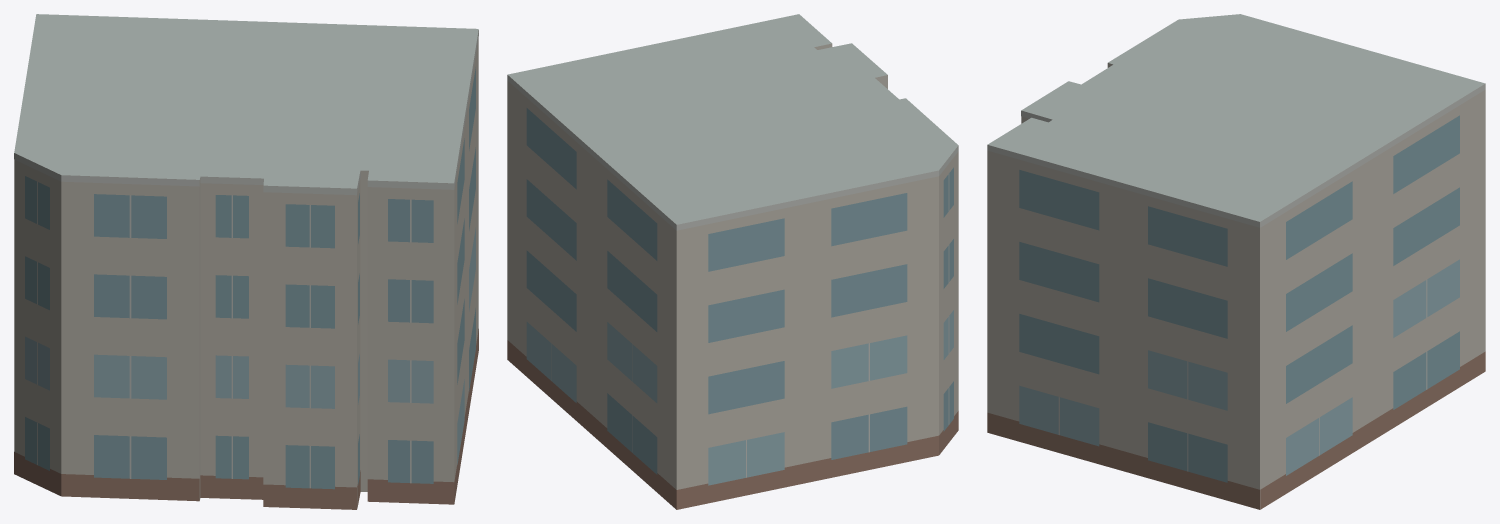
File: survey-upis-32962342.glb
The picture shows the model from 3 angles, left to right: view 1: azimuth 30°, elevation 25°; view 2: azimuth 150°, elevation 25°; view 3: azimuth 270°, elevation 25°; orthographic projection. The views are drawn at different scales.
Visible parts, largest first — view 1: survey-upis-32962342.tmp; view 2: survey-upis-32962342.tmp; view 3: survey-upis-32962342.tmp.
Part boxes in pixels (x1,y1,x2,y2): survey-upis-32962342.tmp: [14, 14, 478, 509]; survey-upis-32962342.tmp: [507, 14, 958, 509]; survey-upis-32962342.tmp: [987, 14, 1485, 509].
Size of the model in its own units: 18.44 by 11.9 by 18.67.
